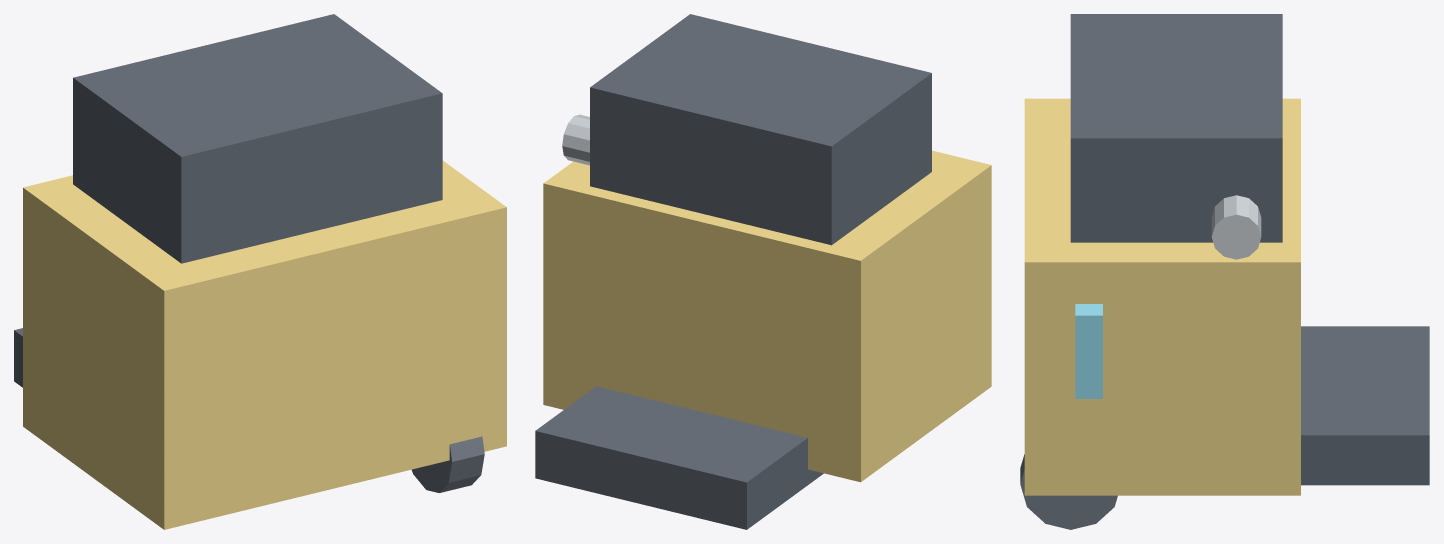
The model's file is trituradora_3.glb.
3 views of the same model, side by side, from view 1: azimuth 30°, elevation 25°; view 2: azimuth 150°, elevation 25°; view 3: azimuth 270°, elevation 25° (orthographic). The views are drawn at different scales.
Parts seen in each view (by area): view 1: chasis, tolva, rueda; view 2: chasis, tolva, cinta, rodillo; view 3: chasis, tolva, cinta, rodillo, panel, rueda.
Part boxes in pixels (<box>): chasis: <box>23,160,506,529</box>; tolva: <box>73,14,442,263</box>; rueda: <box>411,436,484,492</box>; chasis: <box>543,150,991,482</box>; tolva: <box>590,14,931,245</box>; cinta: <box>535,386,823,529</box>; rodillo: <box>562,114,589,165</box>; chasis: <box>1024,98,1300,495</box>; tolva: <box>1070,14,1282,242</box>; cinta: <box>1301,326,1429,485</box>; rodillo: <box>1211,195,1261,259</box>; panel: <box>1075,304,1102,398</box>; rueda: <box>1020,454,1117,529</box>.
Size of the model in its own units: 0.8804 by 0.9 by 0.8707.
